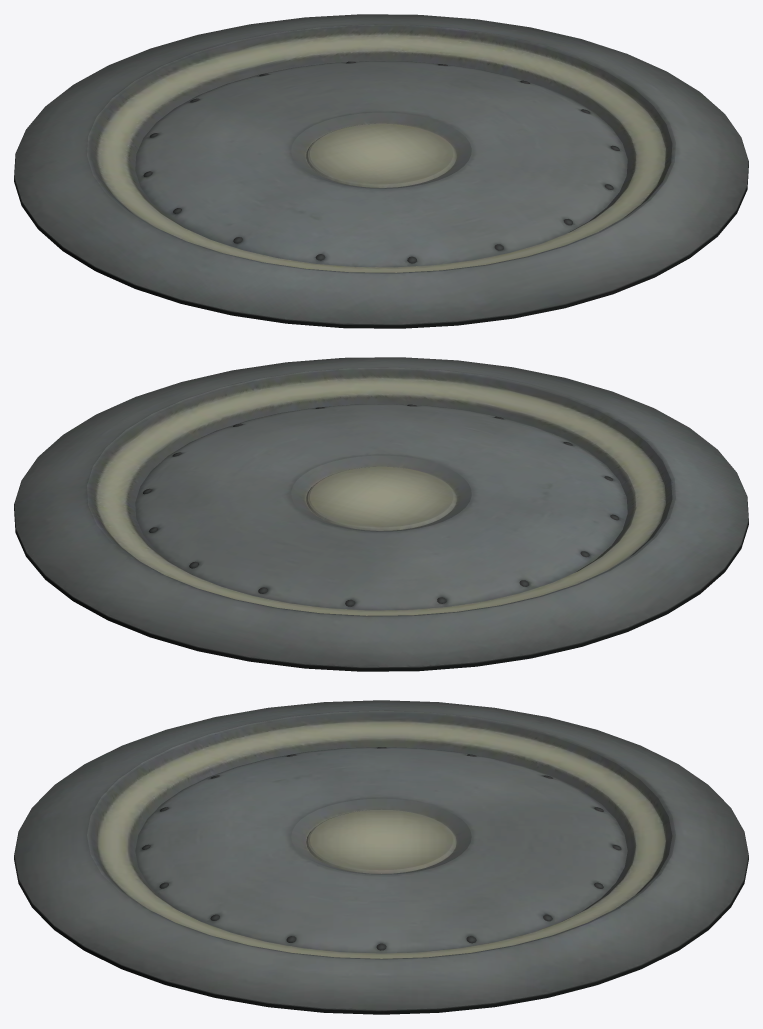
3 renders of one model, top to bottom at view 1: azimuth 30°, elevation 25°; view 2: azimuth 150°, elevation 25°; view 3: azimuth 270°, elevation 25°, orthographic.
Visible parts, largest first — view 1: body0_model0_lod0_mesh0; view 2: body0_model0_lod0_mesh0; view 3: body0_model0_lod0_mesh0.
Boxes of the visible parts, <box> form: body0_model0_lod0_mesh0: <box>14,14,748,328</box>; body0_model0_lod0_mesh0: <box>14,357,748,671</box>; body0_model0_lod0_mesh0: <box>14,700,748,1014</box>.
Bounding box in the file's own units: 203 × 7.38 × 203.
1 material, 1 textured.
